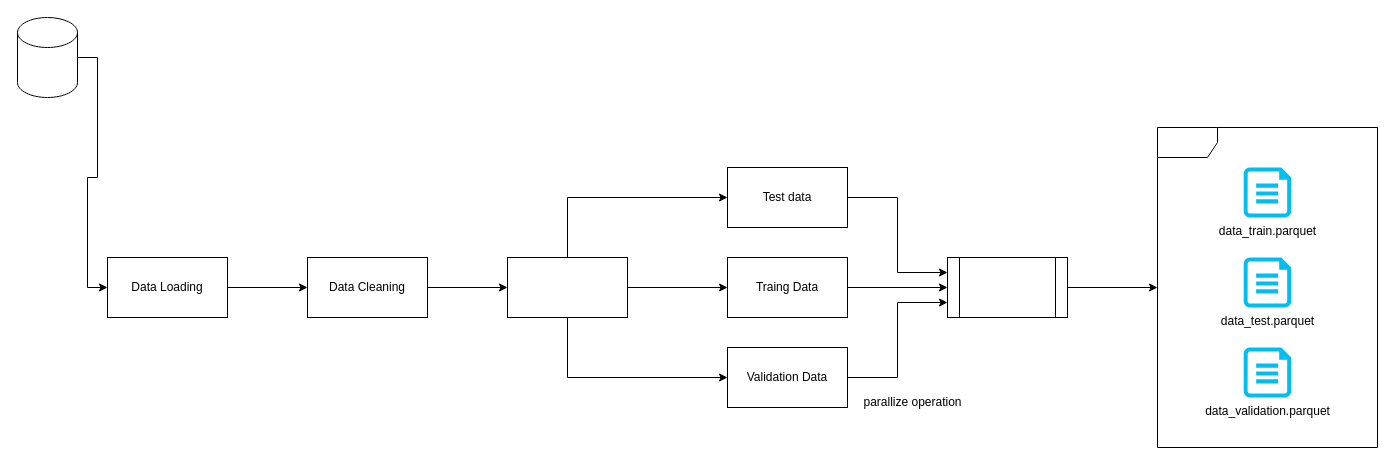
Image size: 1395x465. Some labels were removed from this diagram. Here are the shapes that lost their labels. From the top down, the box of each, then its label:
(16, 16, 78, 98): Raw data
(506, 256, 628, 318): Data Spliting
(946, 256, 1068, 318): File exporter (saving)
(1156, 126, 1378, 448): storage
